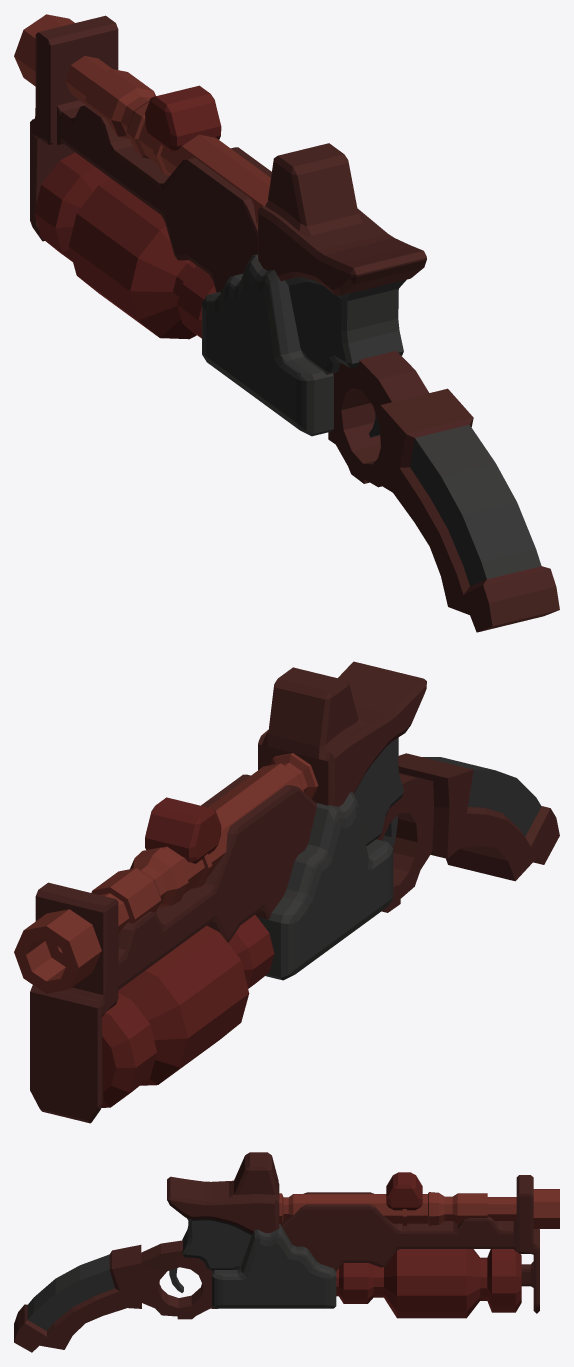
Rendered from scifi-longpistol-small.glb.
The picture shows the model from 3 angles, top to bottom: view 1: azimuth 30°, elevation 25°; view 2: azimuth 150°, elevation 25°; view 3: azimuth 270°, elevation 25°; orthographic projection. The views are drawn at different scales.
Visible parts, largest first — view 1: LongPistol_small; view 2: LongPistol_small; view 3: LongPistol_small.
Boxes of the visible parts, left/top/right/bottom form: LongPistol_small: left=14, top=14, right=559, bottom=632; LongPistol_small: left=14, top=661, right=559, bottom=1123; LongPistol_small: left=14, top=1152, right=559, bottom=1352.
Size of the model in its own units: 0.6385 by 1.66 by 4.45.
